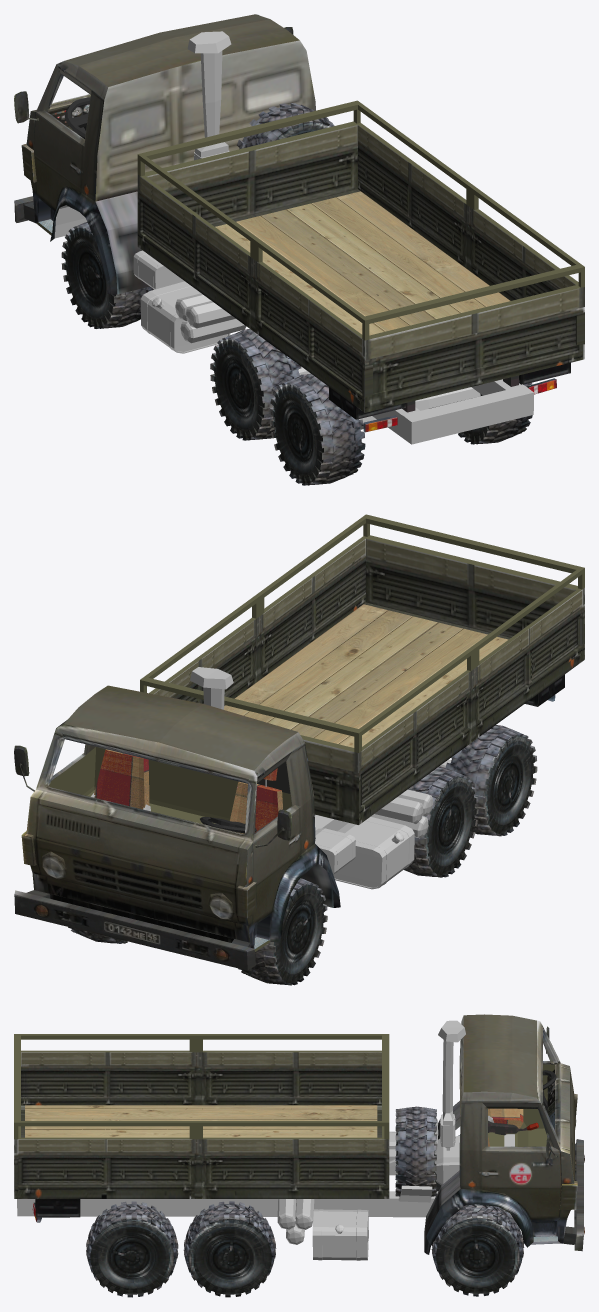
The model's file is KamazNov.fbx.
The picture shows the model from 3 angles, top to bottom: view 1: azimuth 30°, elevation 25°; view 2: azimuth 150°, elevation 25°; view 3: azimuth 270°, elevation 25°; orthographic projection. The views are drawn at different scales.
Visible parts, largest first — view 1: Bort, Fasad, Rama, Right, LZ, LC, Verh, FL, KamazFas, Zapaska, RZ, Niz; view 2: Bort, KamazFas, Verh, Rama, Right, LZ, LC, Salon, FL, Sidenie, Left, Fasad; view 3: Bort, Rama, Left, RZ, RC, RF, Verh, KamazFas, Zapaska, Fasad, Salon, Sidenie (+2 smaller).
Boxes of the visible parts, left/top/right/bottom form: Bort: left=137, top=100, right=584, bottom=432; Fasad: left=95, top=40, right=315, bottom=294; Rama: left=133, top=31, right=533, bottom=444; Right: left=34, top=61, right=117, bottom=294; LZ: left=269, top=373, right=365, bottom=485; LC: left=210, top=329, right=303, bottom=440; Verh: left=64, top=14, right=299, bottom=86; FL: left=61, top=222, right=153, bottom=328; KamazFas: left=14, top=27, right=293, bottom=223; Zapaska: left=236, top=103, right=334, bottom=149; RZ: left=458, top=382, right=532, bottom=444; Niz: left=54, top=205, right=86, bottom=238; Bort: left=140, top=514, right=584, bottom=824; KamazFas: left=14, top=724, right=291, bottom=970; Verh: left=64, top=685, right=297, bottom=770; Rama: left=190, top=667, right=451, bottom=889; Right: left=252, top=732, right=340, bottom=951; LZ: left=445, top=725, right=537, bottom=836; LC: left=404, top=766, right=478, bottom=877; Salon: left=87, top=747, right=291, bottom=834; FL: left=238, top=878, right=327, bottom=985; Sidenie: left=91, top=749, right=282, bottom=833; Left: left=49, top=720, right=95, bottom=795; Fasad: left=301, top=864, right=333, bottom=907; Bort: left=14, top=1034, right=389, bottom=1222; Rama: left=17, top=1020, right=514, bottom=1260; Left: left=424, top=1091, right=562, bottom=1254; RZ: left=86, top=1201, right=178, bottom=1297; RC: left=183, top=1201, right=276, bottom=1297; RF: left=431, top=1204, right=524, bottom=1296; Verh: left=463, top=1014, right=536, bottom=1097; KamazFas: left=537, top=1020, right=584, bottom=1251; Zapaska: left=395, top=1106, right=437, bottom=1196; Fasad: left=424, top=1016, right=463, bottom=1250; Salon: left=488, top=1063, right=559, bottom=1146; Sidenie: left=488, top=1108, right=523, bottom=1146.
Bounding box in the file's own units: 649 × 620 × 1392.
